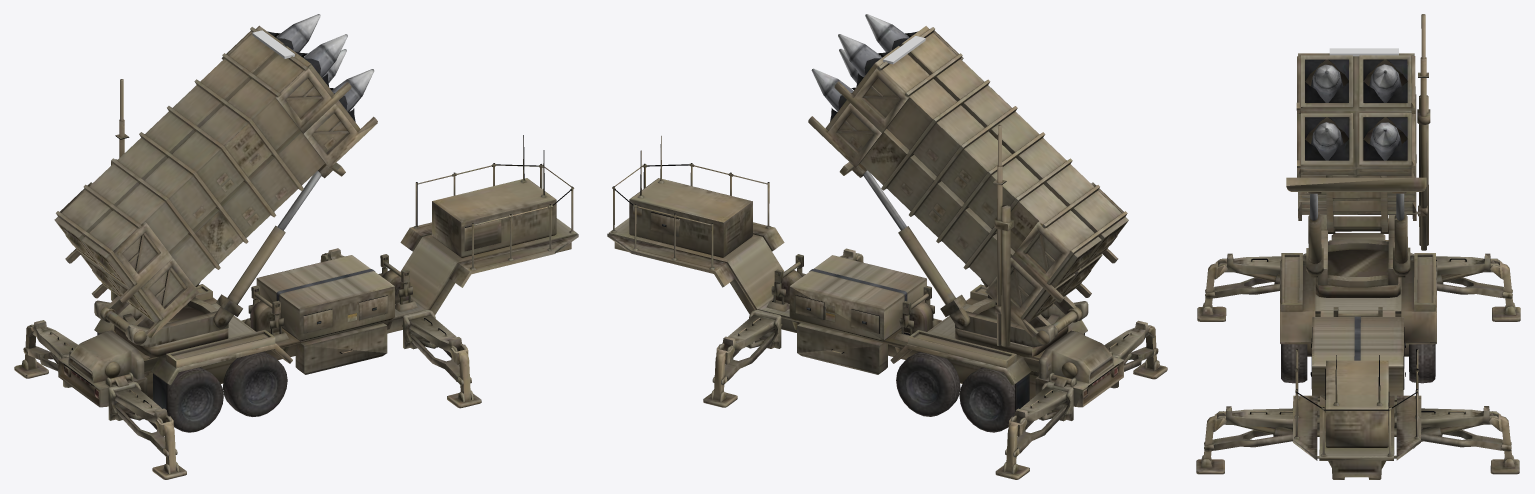
File: patriot.glb
3 views of the same model, side by side, from view 1: azimuth 30°, elevation 25°; view 2: azimuth 150°, elevation 25°; view 3: azimuth 270°, elevation 25° (orthographic). The views are drawn at different scales.
Visible parts, largest first — view 1: g_patriot_hull; view 2: g_patriot_hull; view 3: g_patriot_hull.
Boxes of the visible parts, <box> form: g_patriot_hull: <box>14,14,578,479</box>; g_patriot_hull: <box>607,14,1167,479</box>; g_patriot_hull: <box>1196,14,1520,479</box>.
Bounding box in the file's own units: 10.4 × 7.09 × 5.71.
2 materials, 1 textured.
